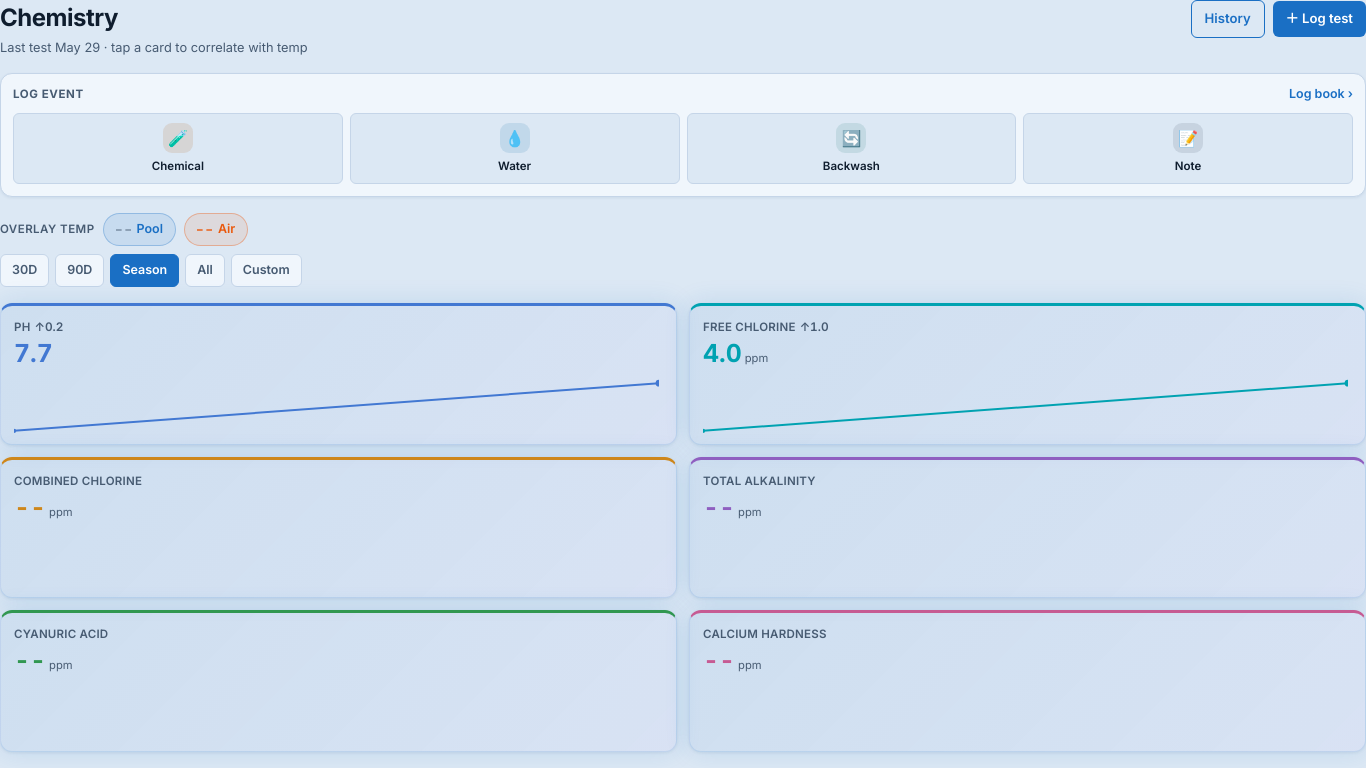
it: ChemistryTab › closes the focus sheet when its close button is clicked
Step 1. Click the text "FREE CHLORINE" → (749,328), box [703,319,796,336]
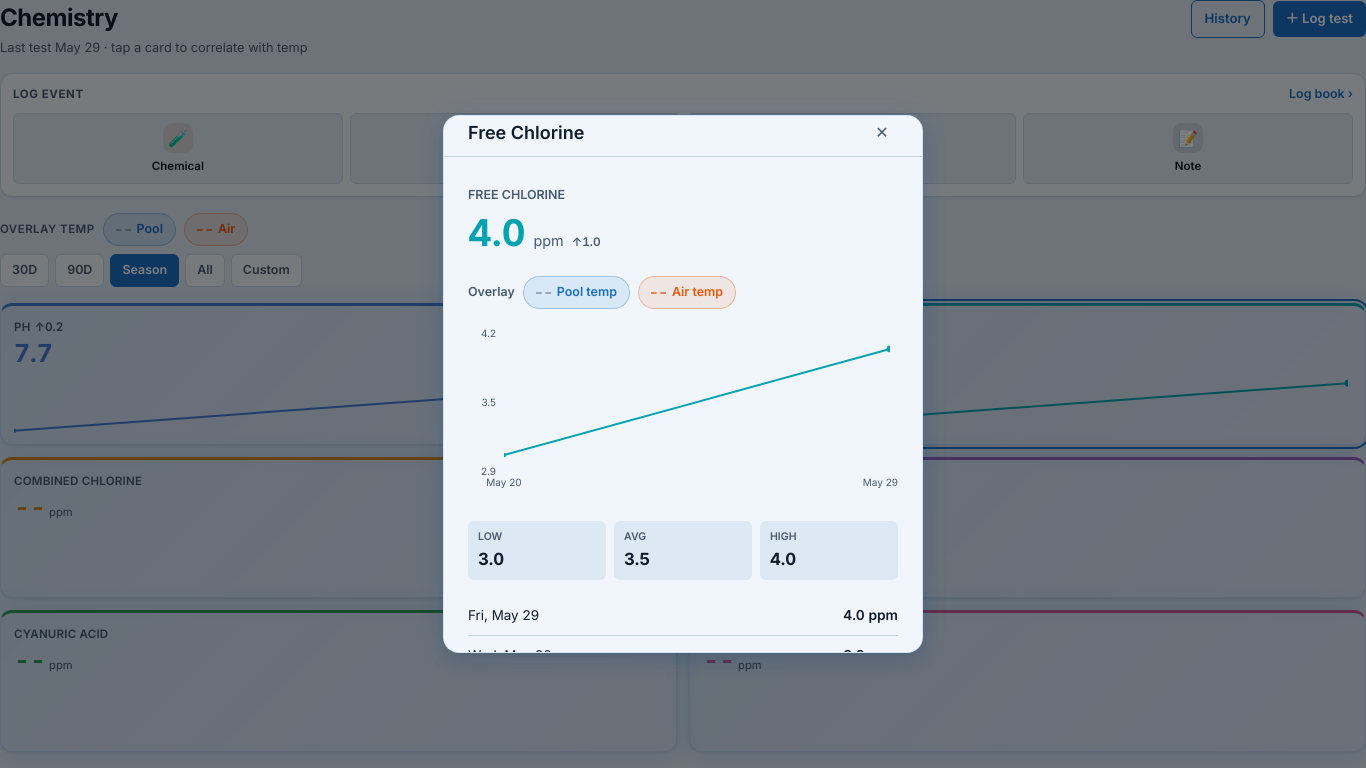
Check: the text "Avg" is shown, box [624,530,646,543]
Step 2. Click the button named "Close" → (882,132), box [866,116,898,148]
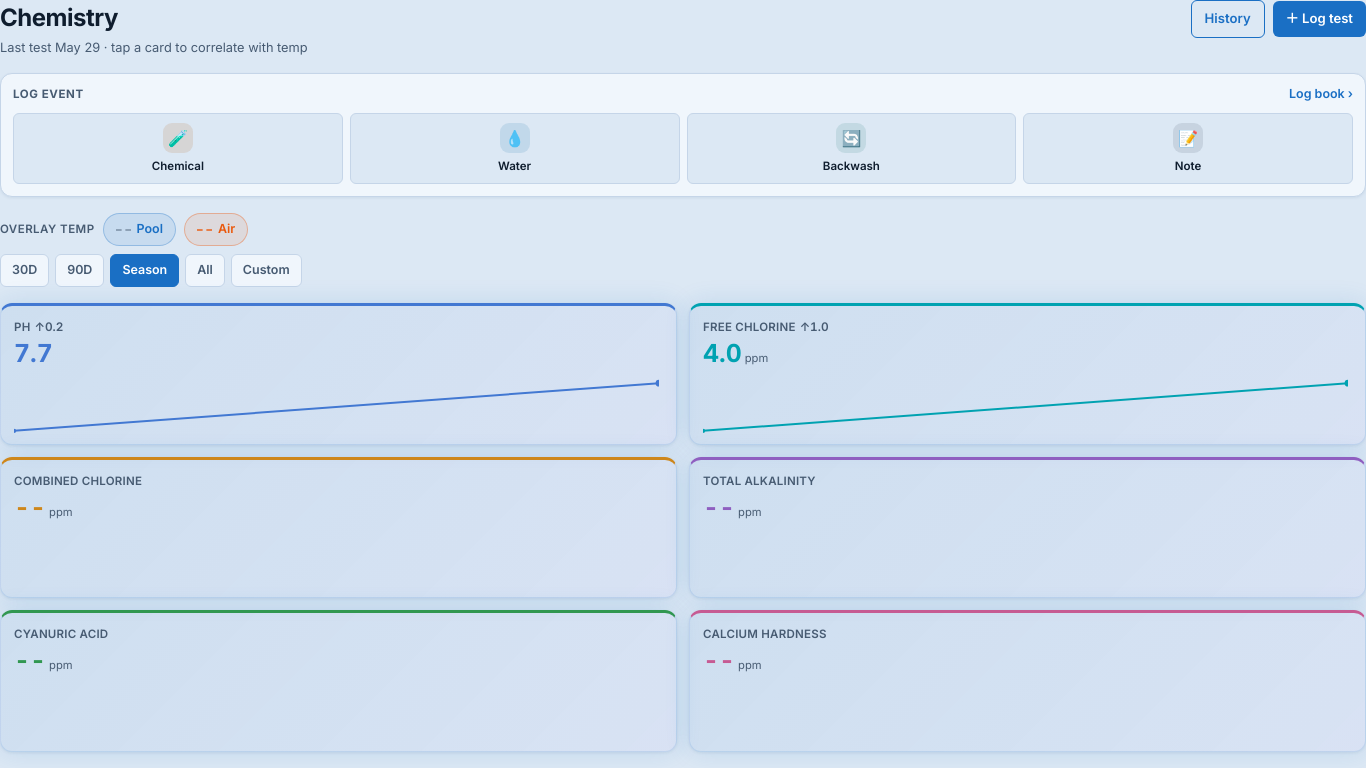
Check: the text "Avg" is gone
